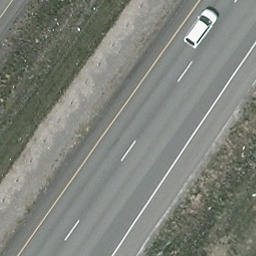car: (182, 9, 218, 50)
